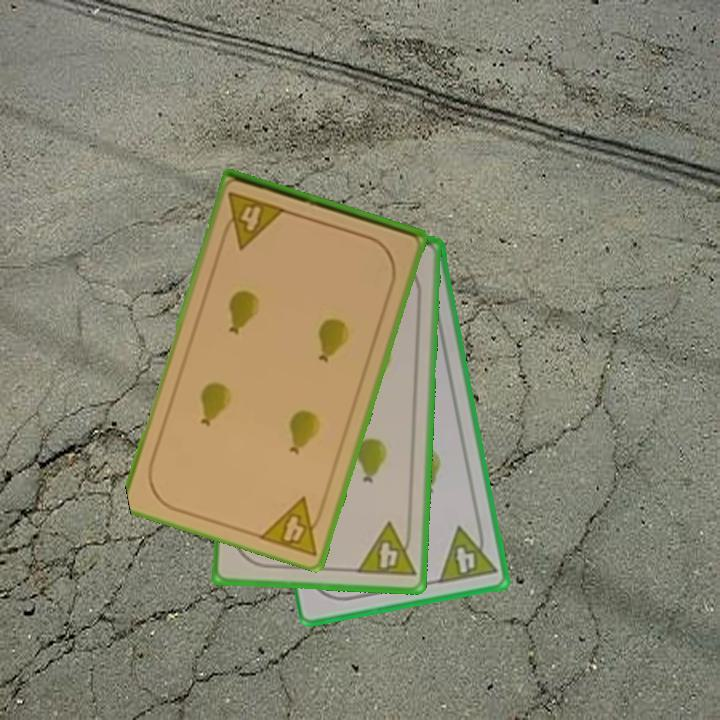4p: (255, 493, 330, 559), (217, 189, 289, 252), (435, 519, 500, 587), (353, 519, 418, 580)
